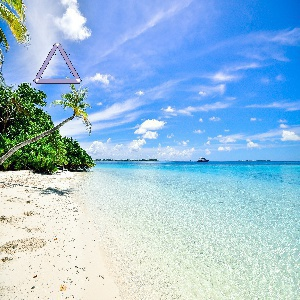triangle: (30, 40, 85, 87)
